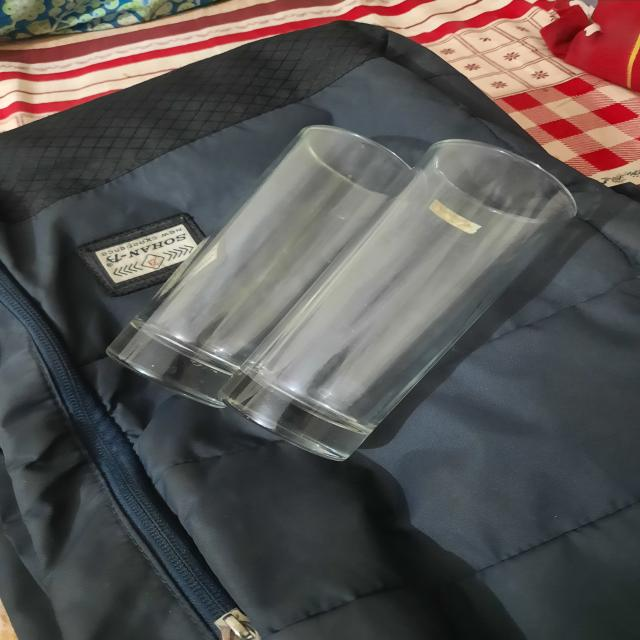Glass: (111, 114, 609, 476)
